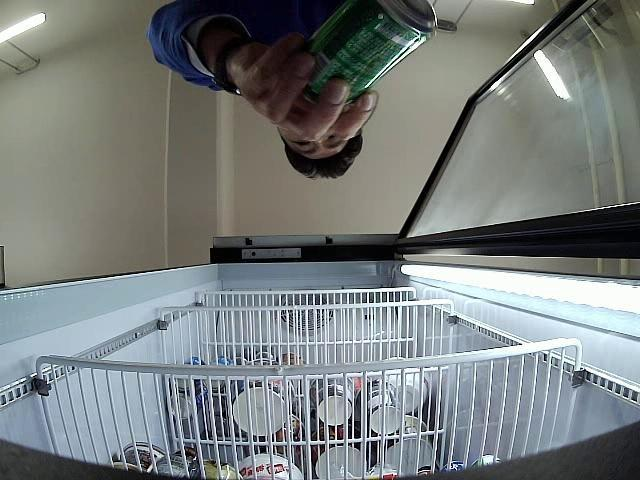12_chilsungCider: (301, 0, 438, 105)
